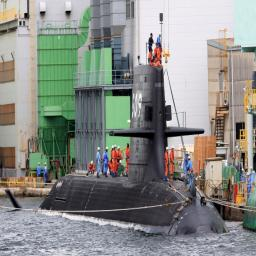submarine: (6, 67, 232, 234)
